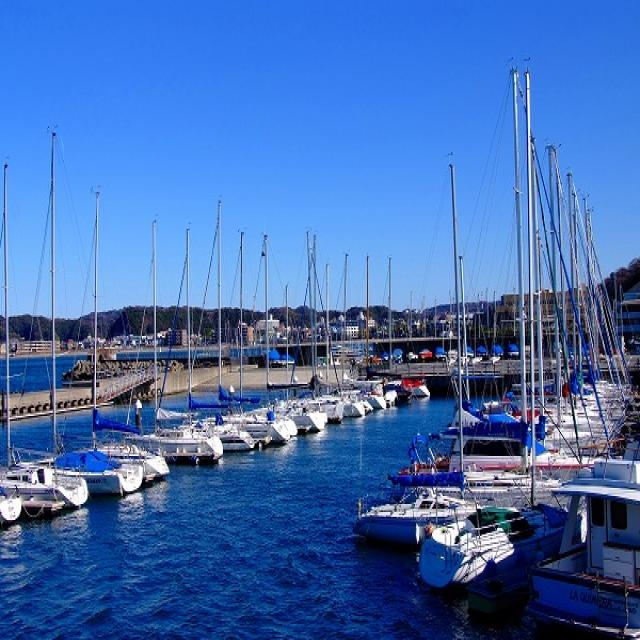fishing boat: (420, 502, 540, 586), (358, 474, 452, 558), (49, 443, 145, 503), (0, 467, 83, 520), (154, 424, 228, 468), (233, 396, 294, 446), (199, 426, 269, 454)
